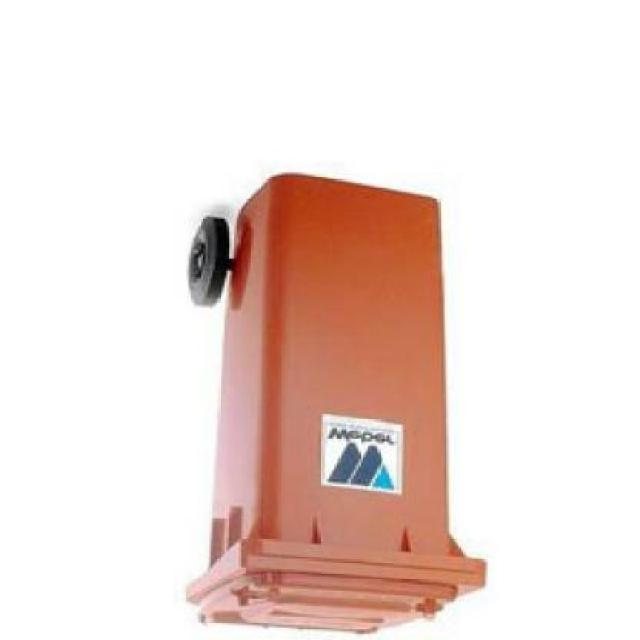garbage container: (159, 154, 501, 639)
